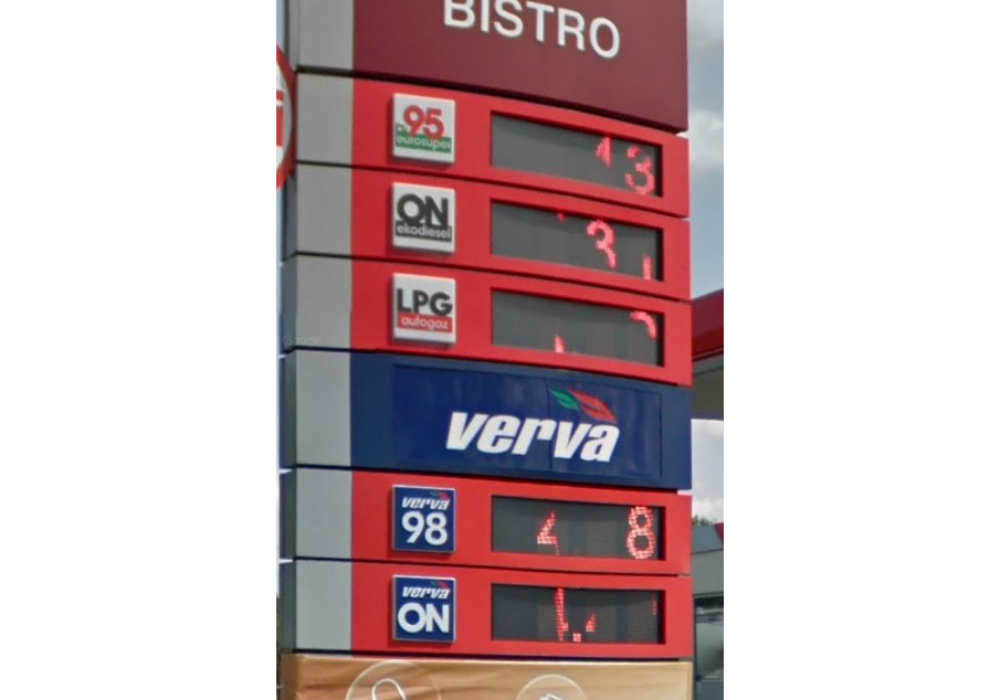LPG: (390, 269, 457, 347)
ON: (386, 178, 457, 256), (387, 570, 456, 644)
PB95: (388, 89, 460, 168)
PB98: (387, 480, 458, 557)
